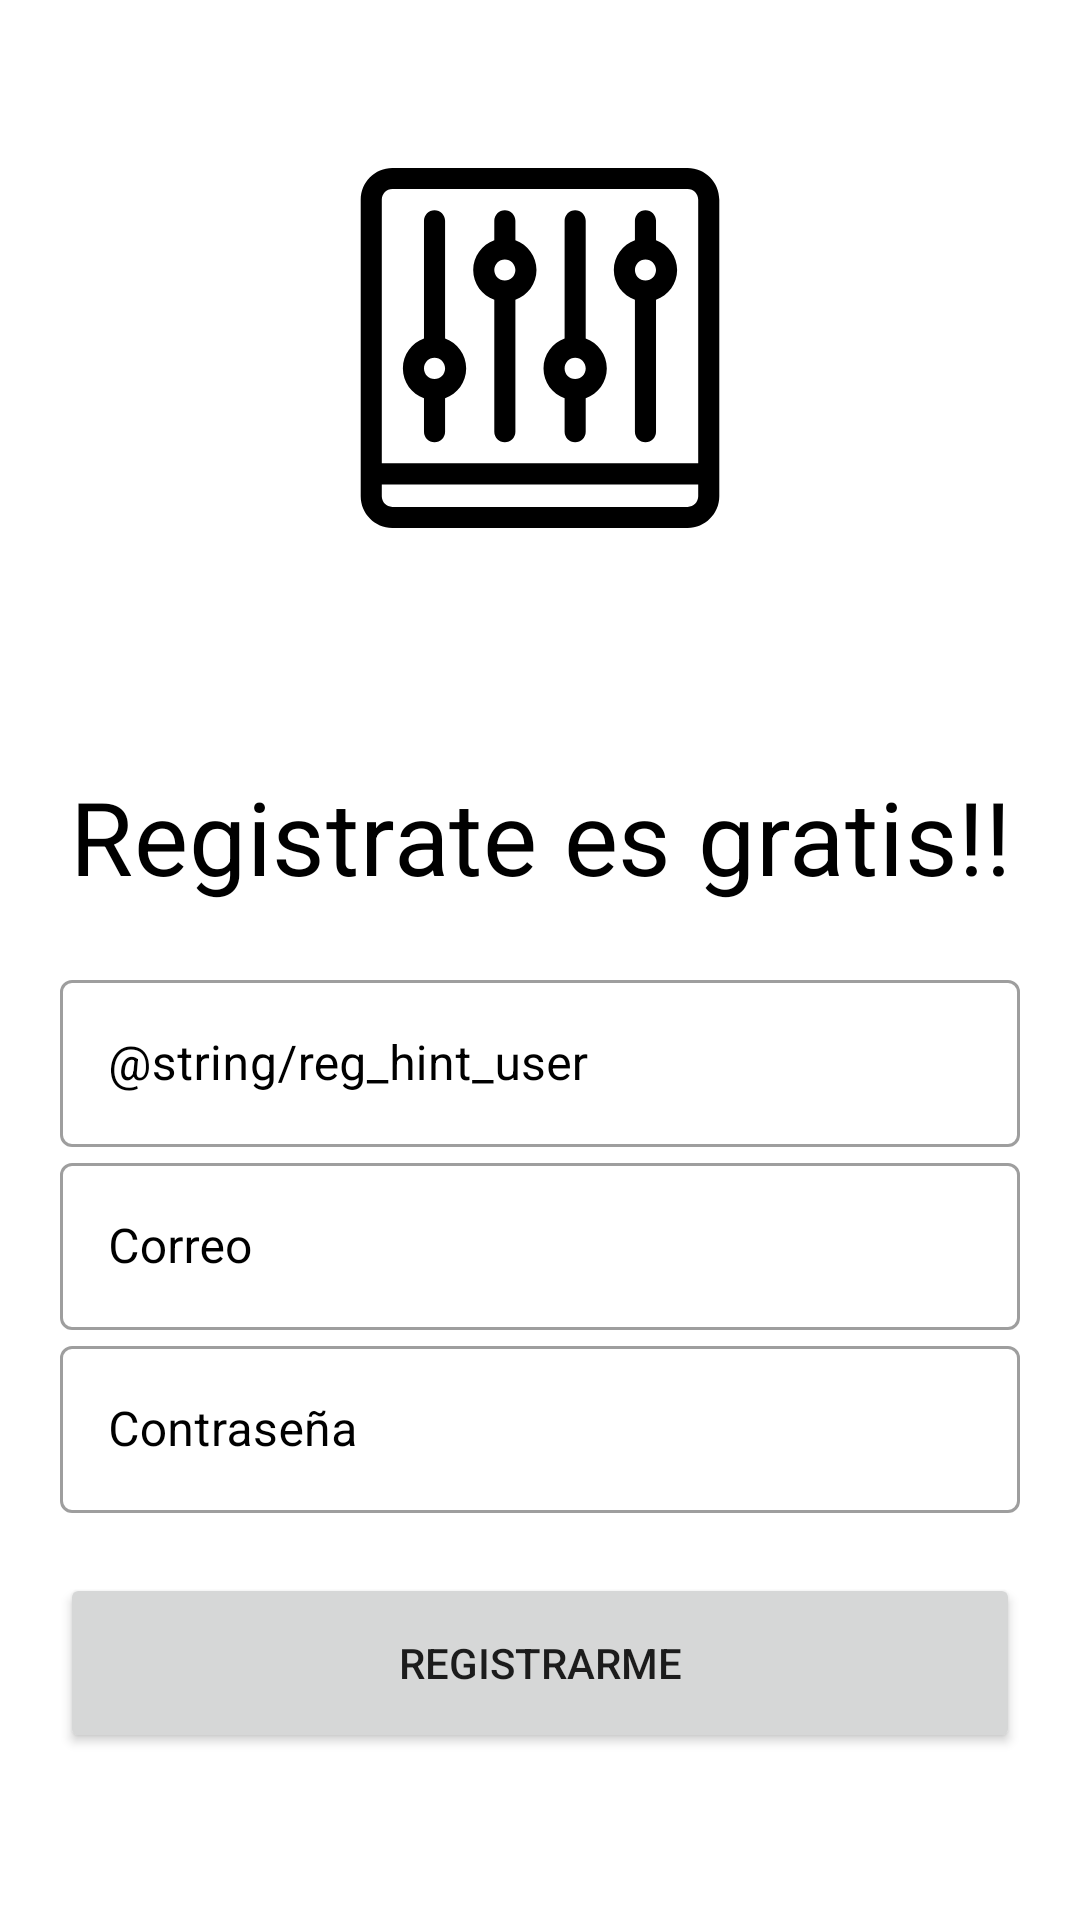

Screen size 1080×1920. Icon name, then its center in pixels as (x=x, y=y):
settings: (x=540, y=348)
